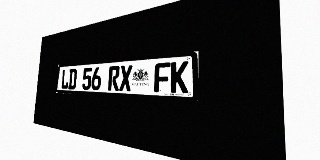5: (82, 67, 92, 90)
6: (91, 67, 102, 90)
D: (68, 69, 77, 89)
F: (154, 62, 170, 93)
K: (170, 61, 188, 93)
L: (61, 69, 69, 89)
R: (108, 66, 120, 91)
X: (119, 65, 132, 91)
